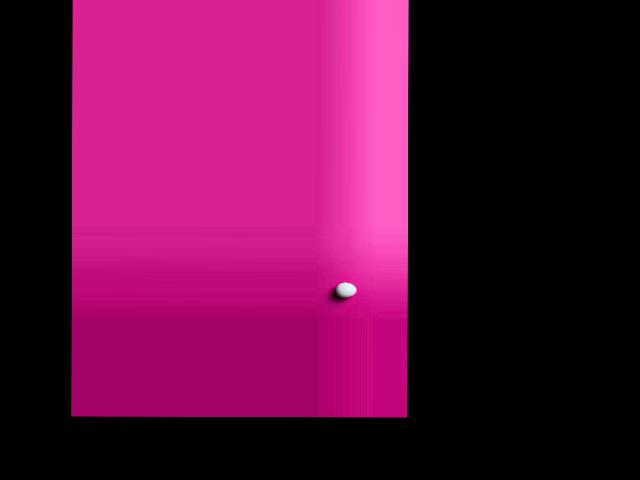egg: (335, 281, 356, 297)
